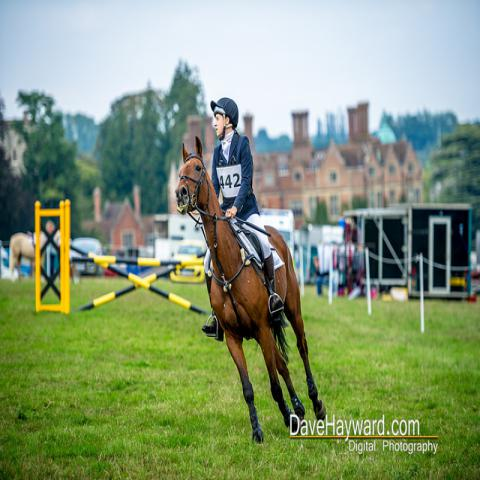car: (70, 238, 107, 257), (176, 238, 206, 258)
